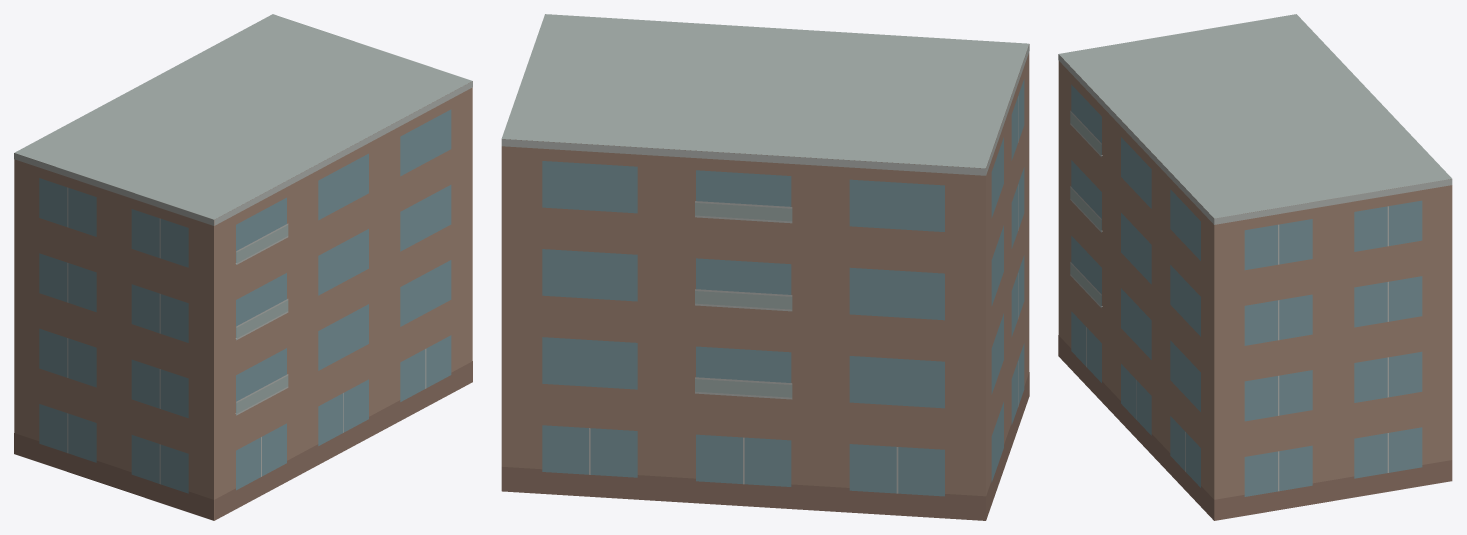
Rendered from survey-upis-32720474.glb.
3 views of the same model, side by side, from view 1: azimuth 30°, elevation 25°; view 2: azimuth 150°, elevation 25°; view 3: azimuth 270°, elevation 25° (orthographic). The views are drawn at different scales.
Visible parts, largest first — view 1: survey-upis-32720474.tmp; view 2: survey-upis-32720474.tmp; view 3: survey-upis-32720474.tmp.
Part boxes in pixels (x1,y1,x2,y2): survey-upis-32720474.tmp: (14, 14, 472, 520); survey-upis-32720474.tmp: (501, 14, 1029, 520); survey-upis-32720474.tmp: (1058, 14, 1452, 520).
Bounding box in the file's own units: 16.91 × 11.64 × 13.76.
